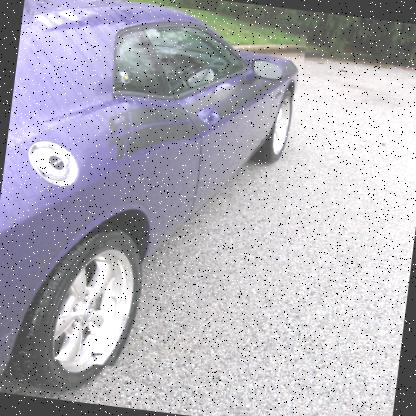Car: (0, 0, 309, 386)
